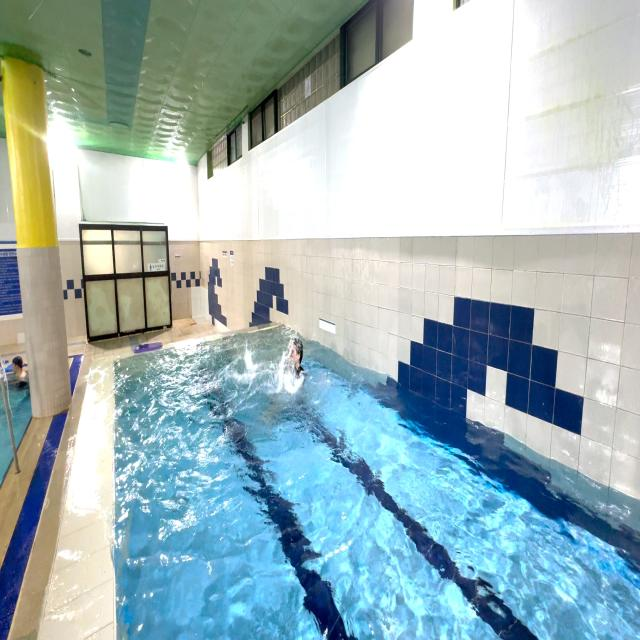Swimming: (267, 321, 312, 398)
